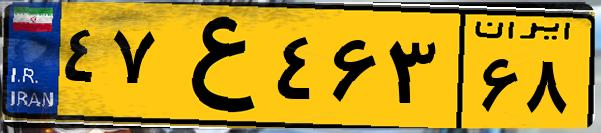3: (385, 28, 445, 110)
4: (270, 28, 330, 110), (57, 26, 110, 100)
6: (330, 28, 385, 110), (475, 38, 525, 113)
7: (110, 28, 158, 98)
8: (525, 38, 570, 115)
ع: (158, 12, 270, 120)
